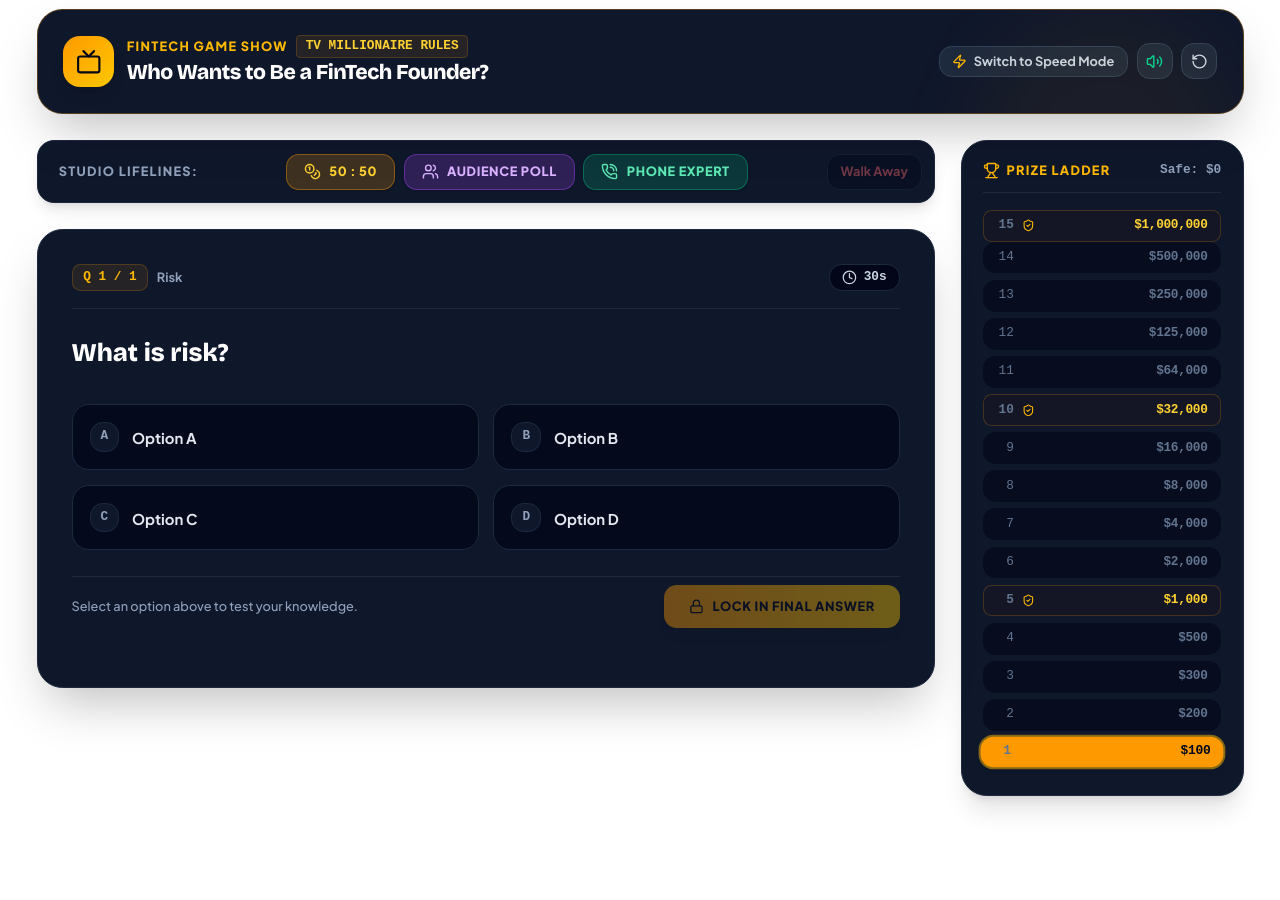
Test: PopQuizGame › Lifelines › closes audience modal on close button
Click the button "Audience Poll": (489, 172) [404,154,575,190]
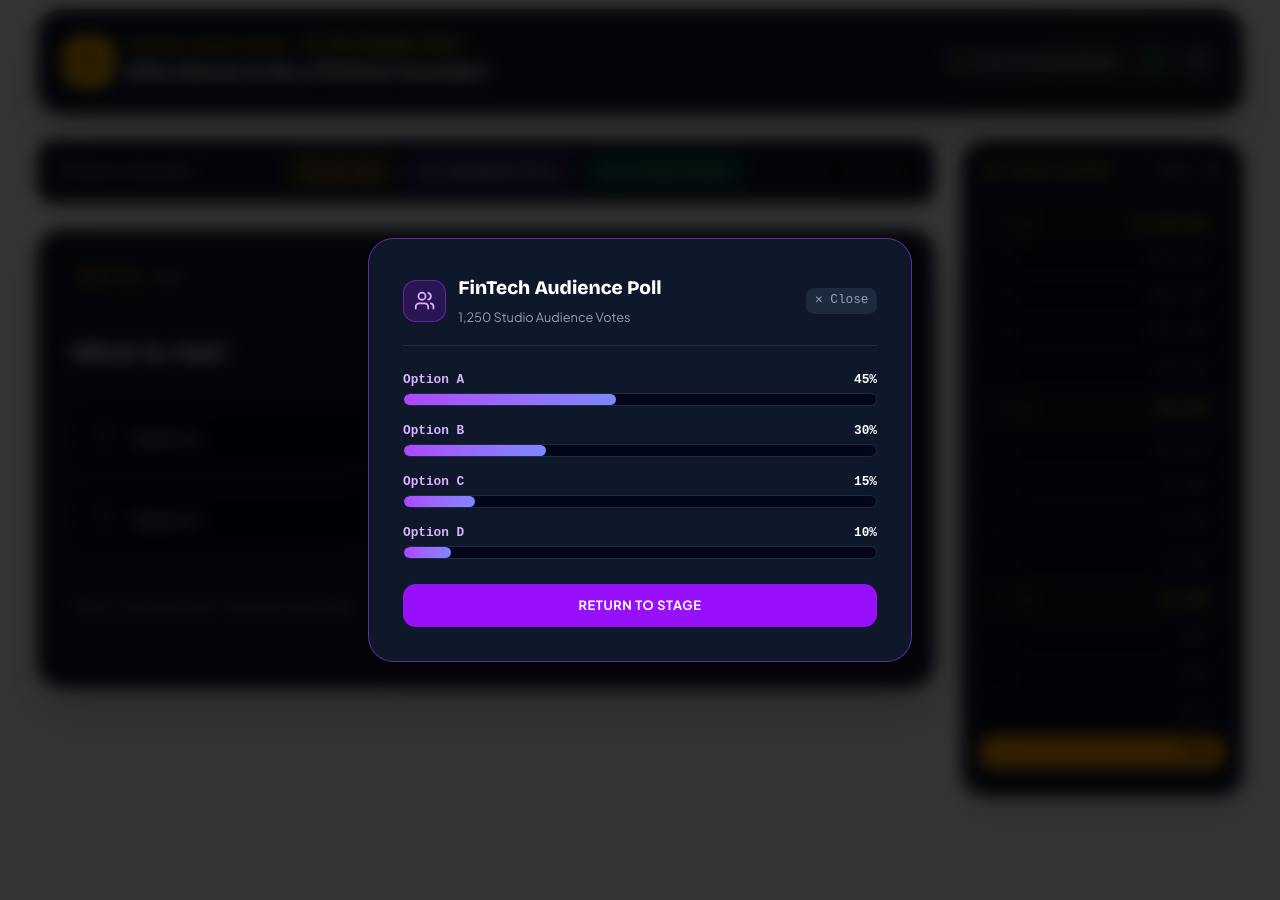
Now the heading "FinTech Audience Poll" is shown, box [458,273,662,303]
Click the button "Return to Stage": (640, 606) [403,584,877,627]
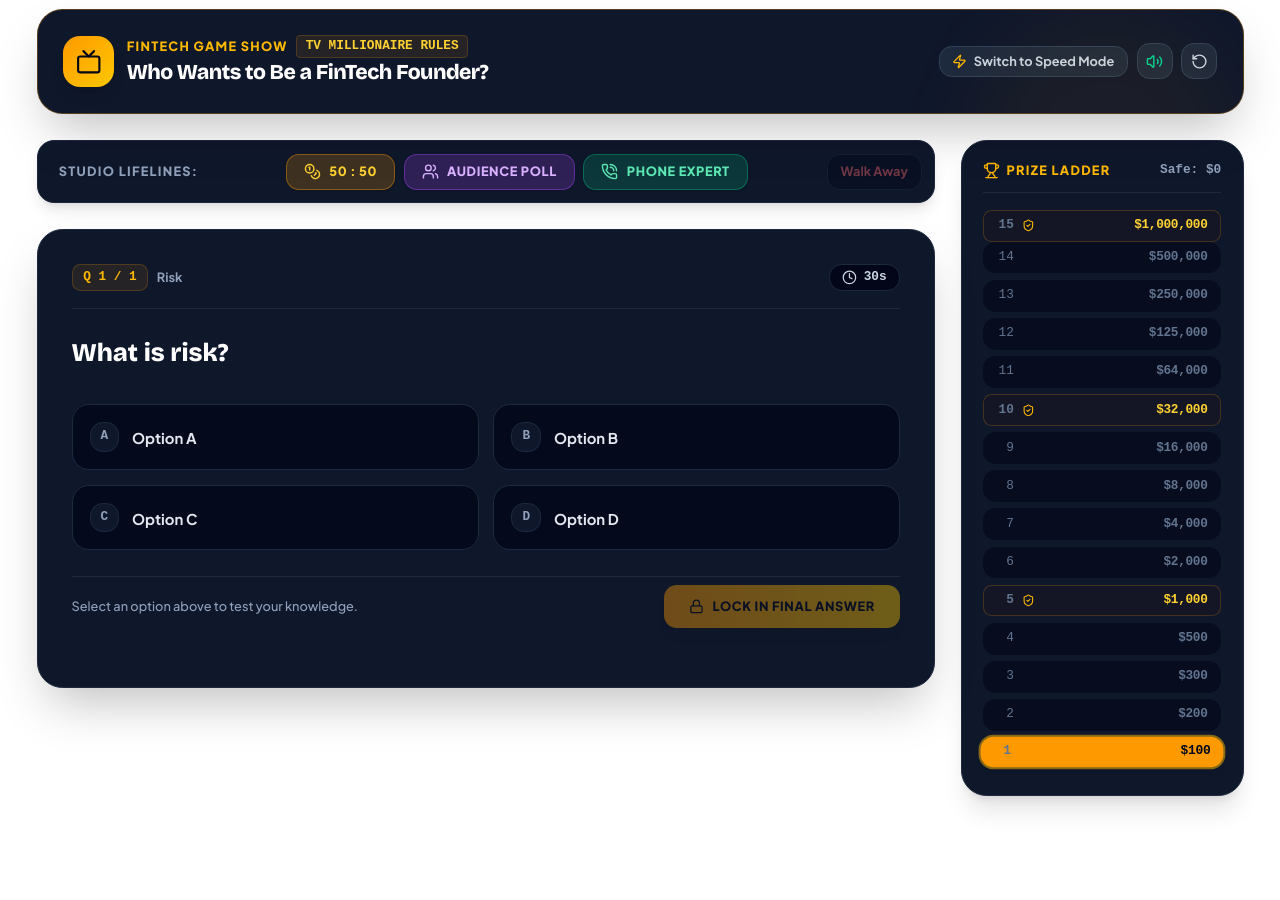
Now the heading "FinTech Audience Poll" is gone
